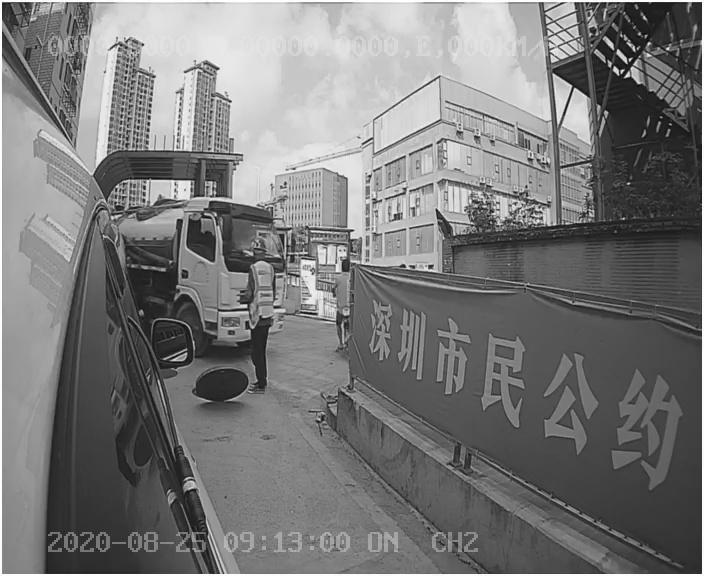person: (240, 240, 279, 397)
